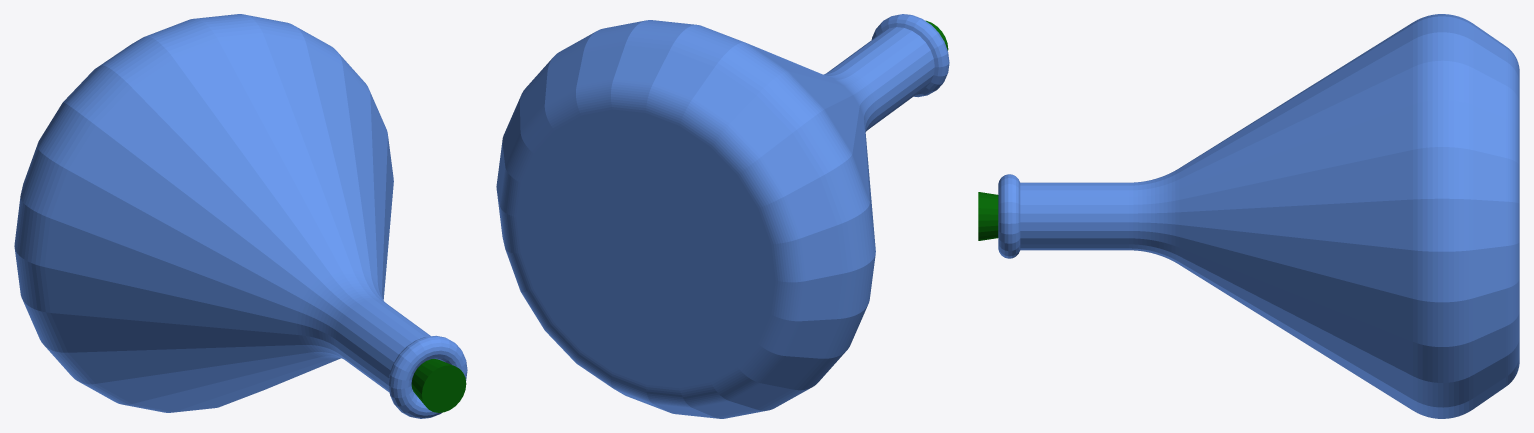
3 renders of one model, left to right at view 1: azimuth 30°, elevation 25°; view 2: azimuth 150°, elevation 25°; view 3: azimuth 270°, elevation 25°, orthographic. The views are drawn at different scales.
Parts seen in each view (by area): view 1: conical flask; view 2: conical flask; view 3: conical flask.
Part boxes in pixels (x1=…): conical flask: x1=14, y1=14, x2=467, y2=418; conical flask: x1=496, y1=14, x2=949, y2=418; conical flask: x1=978, y1=14, x2=1519, y2=418.
Bounding box in the file's own units: 14.95 × 14.95 × 19.91.
